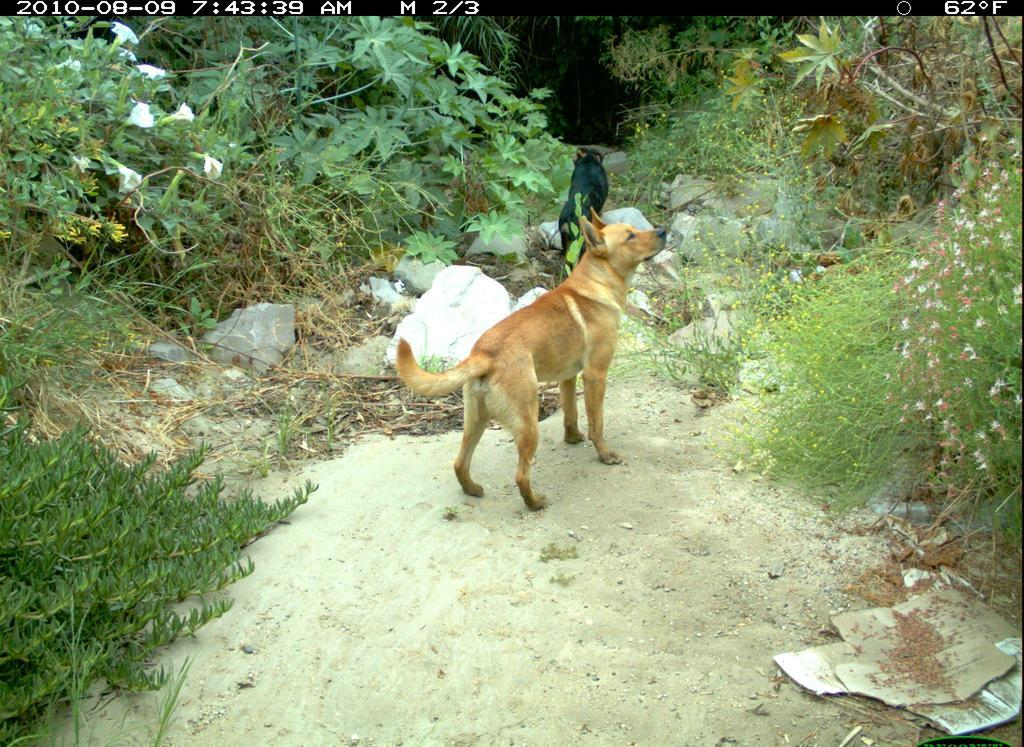dog: (395, 203, 670, 519), (555, 140, 618, 279)
